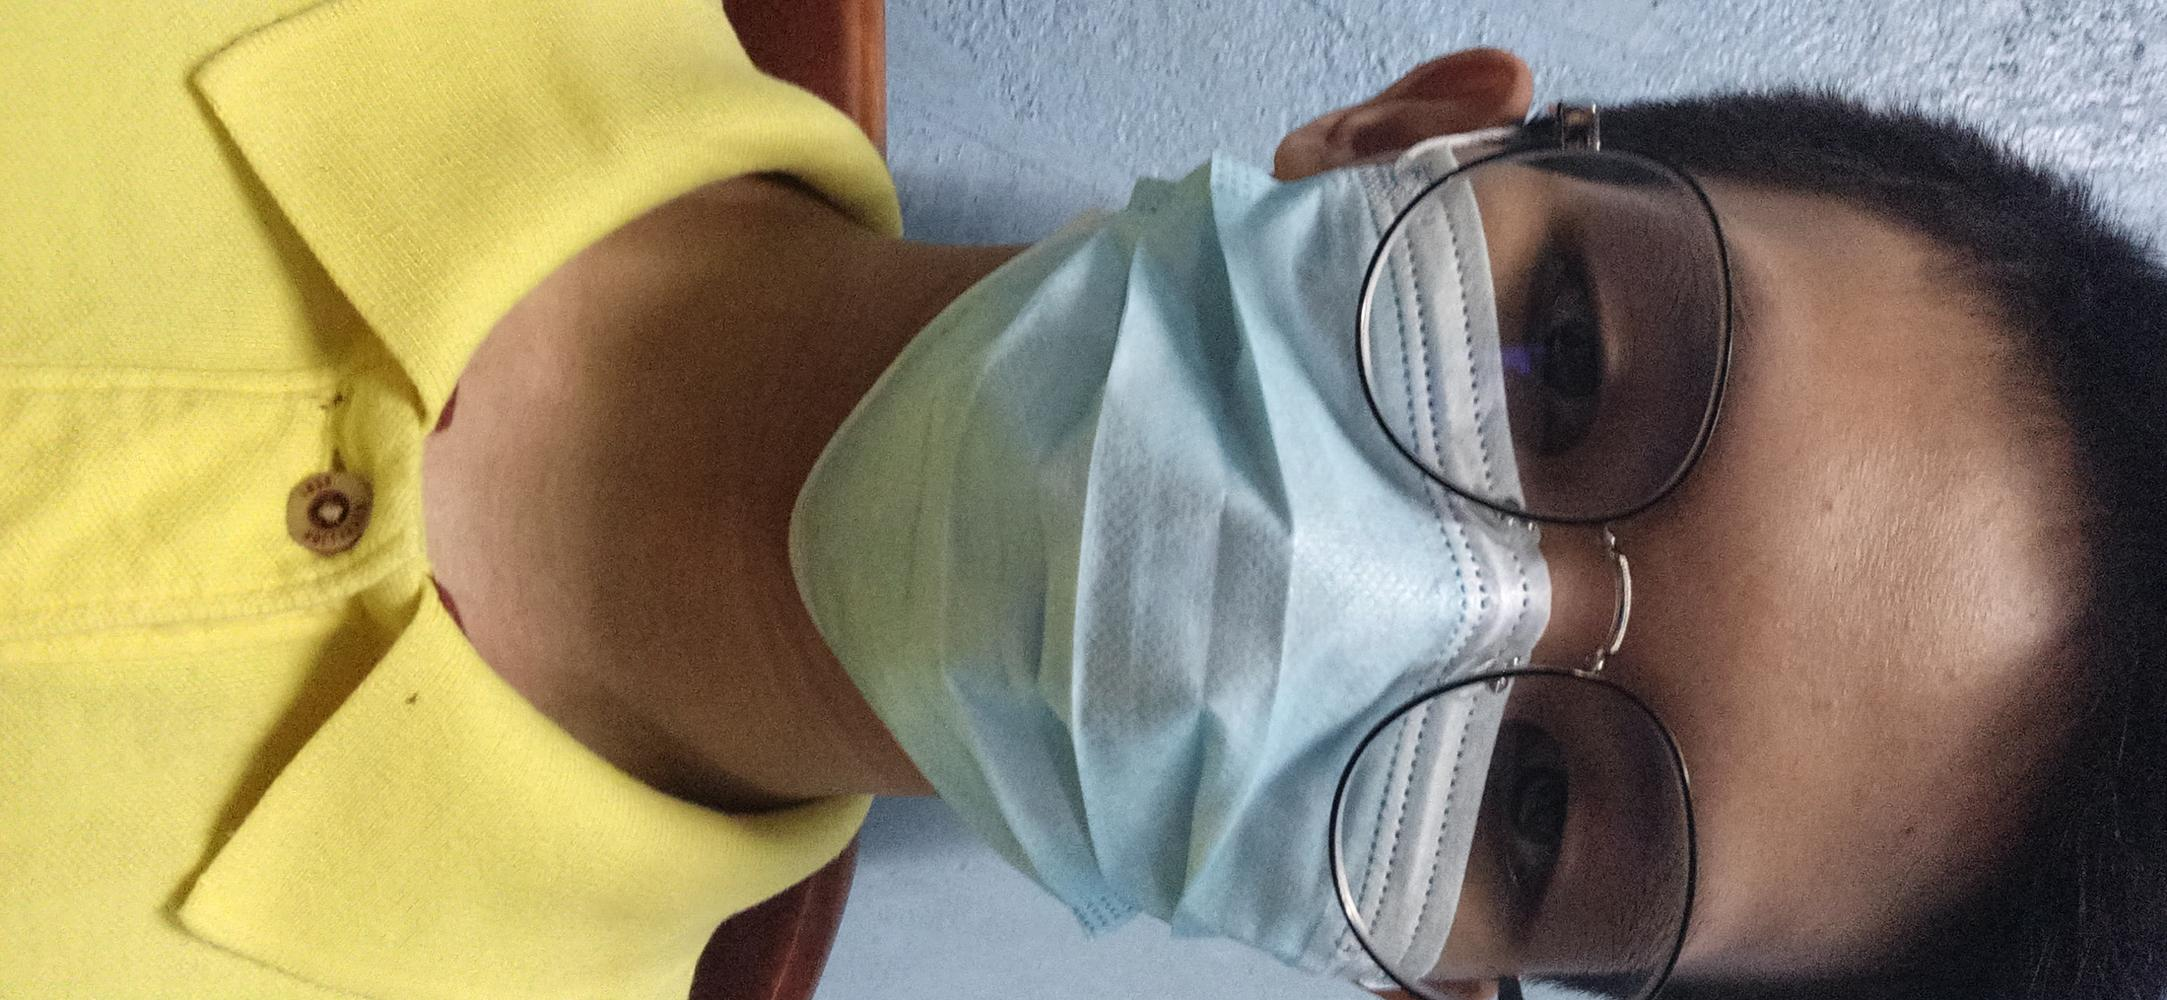Face Mask: (790, 159, 1541, 1000)
Undefined Object: (3, 4, 883, 1000), (1377, 104, 1696, 1000)
